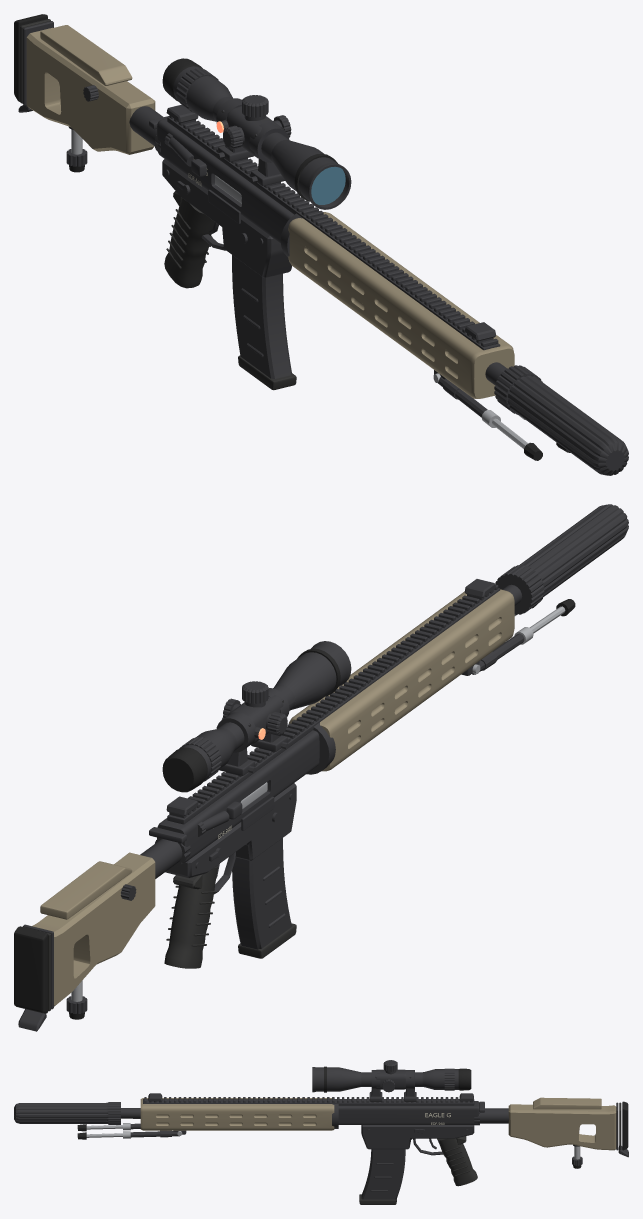
File: eagle.glb
The picture shows the model from 3 angles, top to bottom: view 1: azimuth 30°, elevation 25°; view 2: azimuth 150°, elevation 25°; view 3: azimuth 270°, elevation 25°; orthographic projection. The views are drawn at different scales.
Visible parts, largest first — view 1: Body; view 2: Body; view 3: Body.
Part boxes in pixels (x1,y1,x2,y2): Body: [14, 14, 628, 475]; Body: [14, 504, 628, 1031]; Body: [14, 1060, 628, 1204].
Size of the model in its own units: 0.0695 by 0.3148 by 1.25.
